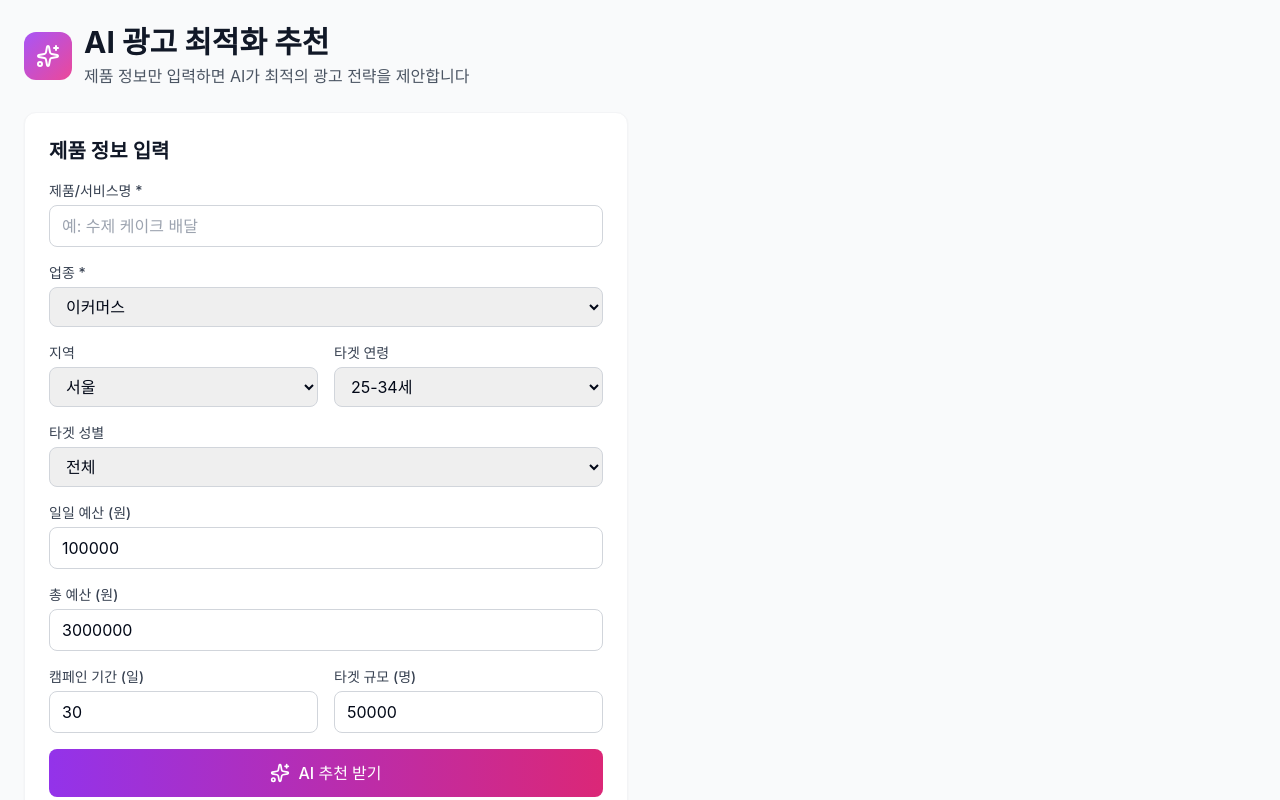
Scenario: AIRecommendationPage › 5. API 성공 — 신뢰도 high → 초록색 배지 + "높음" 텍스트 표시
Type "수제 케이크" into the field with placeholder "예: 수제 케이크 배달".
click(326, 226); type("수제 케이크")  # box [49,205,603,247]
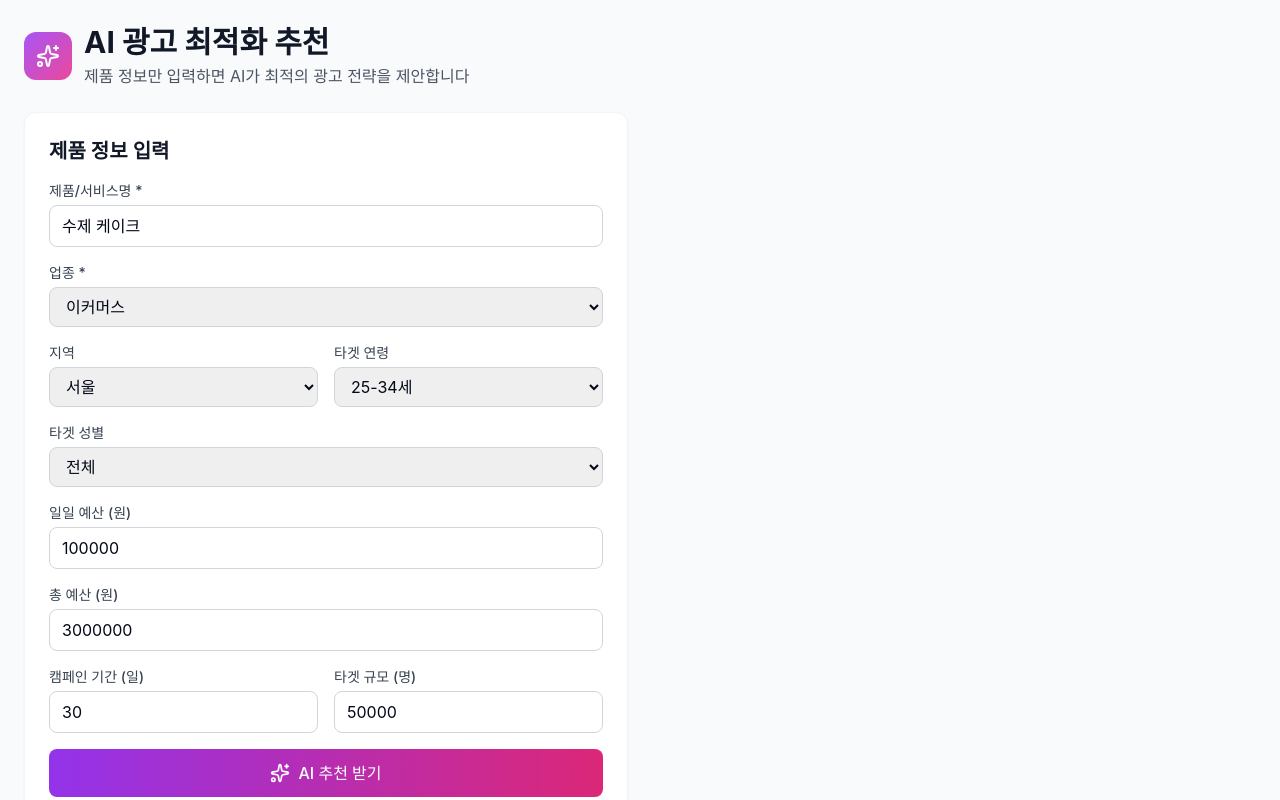
Click the button "AI 추천 받기".
click(326, 773)  # box [49,749,603,797]
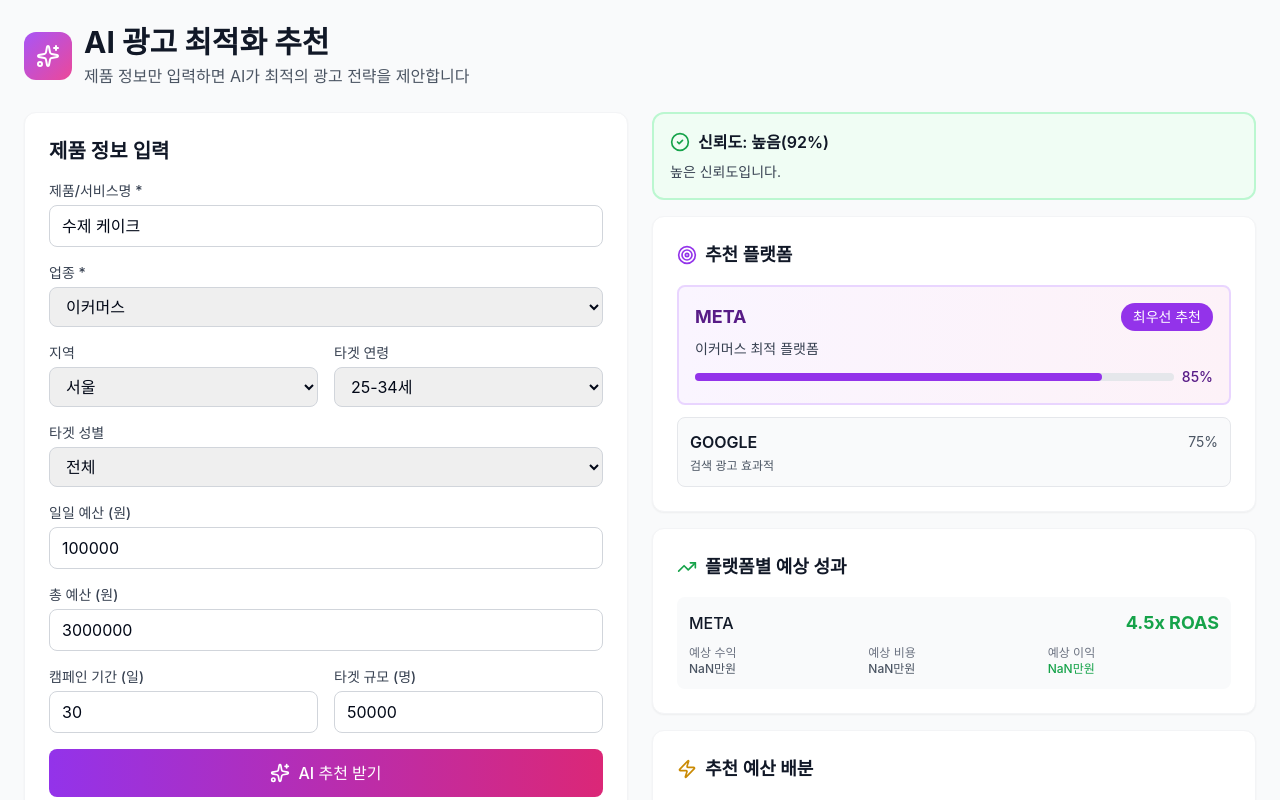
Now the heading "신뢰도: 높음(92%)" is shown, box [698,130,829,154]
